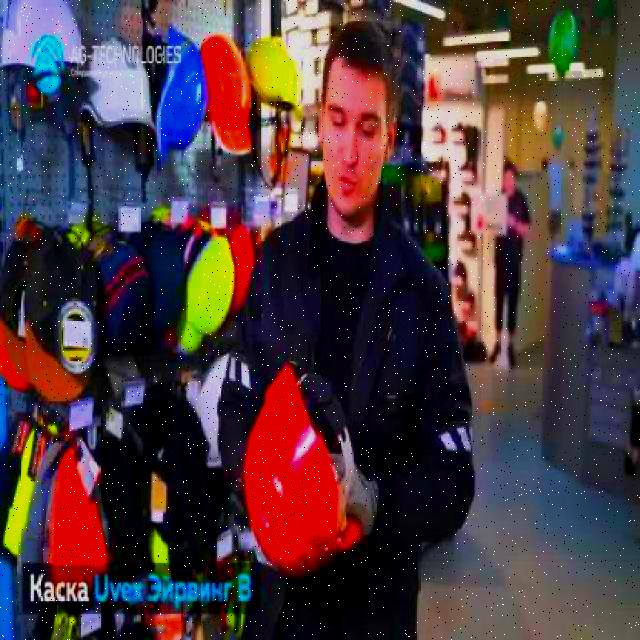Helmet: (245, 360, 363, 572), (154, 24, 212, 178), (78, 36, 157, 138), (193, 35, 256, 157), (0, 0, 86, 77), (247, 34, 306, 122)
